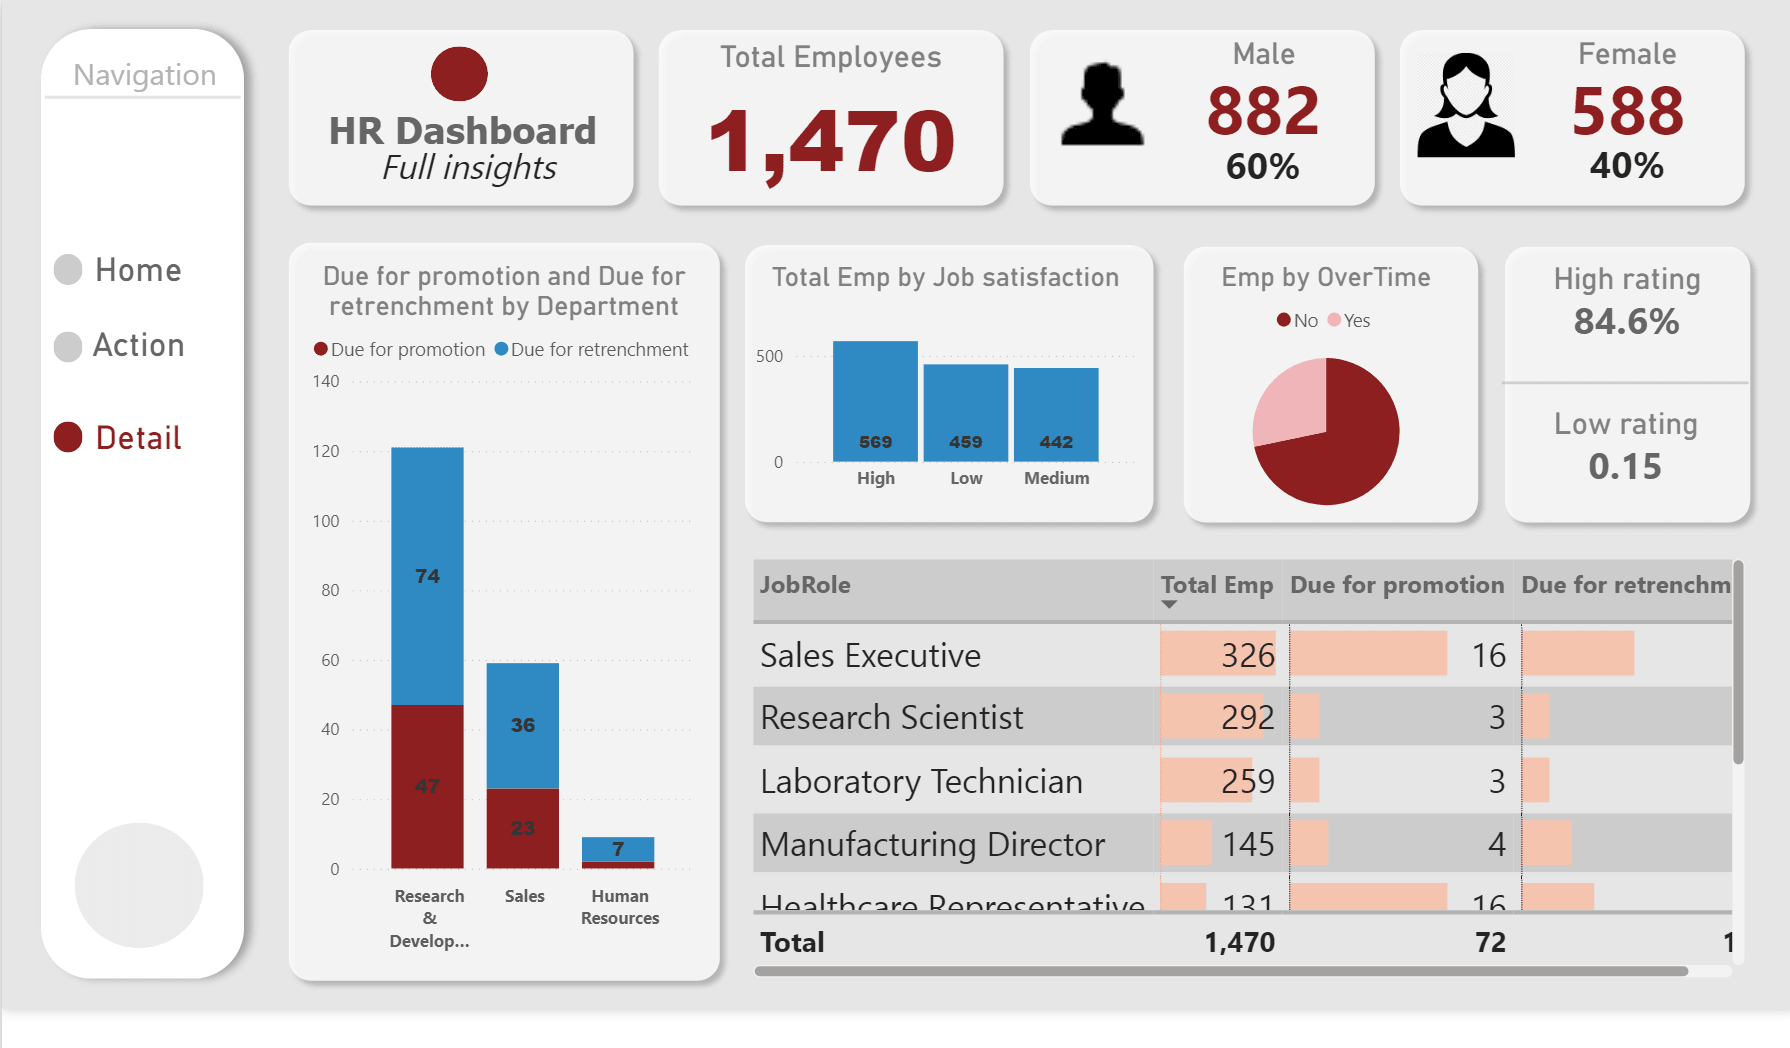

The dashboard page shown, as its layout file describes it:
{"tool":"powerbi","page":{"name":"Details","canvas":[1280,720],"ordinal":1},"visuals":[{"type":"shape","box":[16.5,9.6,166.5,699.2],"z":0},{"type":"shape","box":[195.4,12.4,264.3,143.1],"z":1000},{"type":"shape","box":[459.7,12.4,264.3,143.1],"z":2000},{"type":"shape","box":[724,12.4,264.3,143.1],"z":3000},{"type":"shape","box":[988.2,12.4,264.3,143.1],"z":4000},{"type":"shape","box":[195.2,164.4,325.9,544.6],"z":5000},{"type":"shape","box":[521.1,165.9,309.7,215.8],"z":6000},{"type":"shape","box":[833.6,166.7,228.3,215],"z":7000},{"type":"shape","box":[1063.1,166.7,193.3,215],"z":8000},{"type":"textbox","box":[209.7,71.2,238.7,51.4],"z":9000},{"type":"textbox","box":[36.9,33,130.5,51.4],"z":10000},{"type":"textbox","box":[209.7,97.6,251.9,55.4],"z":11000},{"type":"shape","box":[305.9,33,40.9,39.6],"z":12000},{"type":"card","title":"Total Employees","fields":{"Values":["All Measures.Total Emp"]},"box":[468,27.5,246.4,112.9],"z":13000},{"type":"card","title":"Male","fields":{"Values":["All Measures.Male"]},"box":[814.8,26.2,170.7,75.7],"z":14000},{"type":"card","fields":{"Values":["All Measures.Male %"]},"box":[834.1,90.8,132.1,55.1],"z":15000},{"type":"card","title":"Female","fields":{"Values":["All Measures.Female"]},"box":[1068.7,26.2,183.1,75.7],"z":16000},{"type":"card","fields":{"Values":["All Measures.Female %"]},"box":[1083.9,90.8,152.8,53.7],"z":17000},{"type":"image","box":[736.3,26.2,95,90.8],"z":18000},{"type":"image","box":[1004.7,33,79.8,84],"z":19000},{"type":"columnChart","fields":{"Category":["HR Analytics Data.Department"],"Y":["All Measures.Due for promotion","All Measures.Due for retirment"]},"box":[216.3,185.9,284.8,501.1],"z":20000},{"type":"tableEx","fields":{"Values":["HR Analytics Data.JobRole","All Measures.Total Emp","All Measures.Due for promotion","All Measures.Due for retirment"]},"box":[529.5,393.8,718.8,308.1],"z":21000},{"type":"columnChart","fields":{"Category":["HR Analytics Data.Job satisfaction"],"Y":["All Measures.Total Emp"]},"box":[532.8,186.4,281.8,173.2],"z":22000},{"type":"pieChart","title":"Emp by OverTime","fields":{"Category":["HR Analytics Data.OverTime"],"Y":["All Measures.Total Emp"]},"box":[820.3,186,248.9,192.1],"z":23000},{"type":"card","title":"High rating","fields":{"Values":["All Measures.% High emp rating"]},"box":[1066.7,186,186,61.6],"z":24000},{"type":"card","title":"Low rating","fields":{"Values":["All Measures.% Low emp rating"]},"box":[1065.5,289.9,186,61.6],"z":25000},{"type":"shape","box":[1070.1,265.7,176.1,14.7],"z":26000},{"type":"shape","box":[36.9,300.7,21.1,22.4],"z":27000},{"type":"actionButton","title":"Detail","box":[27.7,298,139.8,39.6],"z":28000},{"type":"shape","box":[36.9,236,21.1,22.4],"z":29000},{"type":"actionButton","title":"Action","box":[27.7,232.1,139.8,58],"z":30000},{"type":"shape","box":[36.9,180.7,21.1,22.4],"z":31000},{"type":"actionButton","title":"Home","box":[27.7,178,139.8,54.1],"z":32000},{"type":"shape","box":[51.4,586.8,92.3,89.7],"z":33000},{"type":"shape","box":[30.2,61.6,140.1,15.7],"z":34000}]}

Visuals, with their boxes on the page's 1280x720 design canvas (x1, y1, x2, y2). These are canvas units, not pixel positions in the 1790x1048 screenshot, which may show the page scaled, cropped or inside an application window:
shape: 16, 10, 183, 709
shape: 195, 12, 460, 156
shape: 460, 12, 724, 156
shape: 724, 12, 988, 156
shape: 988, 12, 1252, 156
shape: 195, 164, 521, 709
shape: 521, 166, 831, 382
shape: 834, 167, 1062, 382
shape: 1063, 167, 1256, 382
textbox: 210, 71, 448, 123
textbox: 37, 33, 167, 84
textbox: 210, 98, 462, 153
shape: 306, 33, 347, 73
"Total Employees" card: 468, 28, 714, 140
"Male" card: 815, 26, 986, 102
card - All Measures.Male %: 834, 91, 966, 146
"Female" card: 1069, 26, 1252, 102
card - All Measures.Female %: 1084, 91, 1237, 144
image: 736, 26, 831, 117
image: 1005, 33, 1084, 117
columnChart - HR Analytics Data.Department x All Measures.Due for promotion: 216, 186, 501, 687
tableEx - HR Analytics Data.JobRole x All Measures.Total Emp: 530, 394, 1248, 702
columnChart - HR Analytics Data.Job satisfaction x All Measures.Total Emp: 533, 186, 815, 360
"Emp by OverTime" pieChart: 820, 186, 1069, 378
"High rating" card: 1067, 186, 1253, 248
"Low rating" card: 1066, 290, 1252, 352
shape: 1070, 266, 1246, 280
shape: 37, 301, 58, 323
"Detail" actionButton: 28, 298, 168, 338
shape: 37, 236, 58, 258
"Action" actionButton: 28, 232, 168, 290
shape: 37, 181, 58, 203
"Home" actionButton: 28, 178, 168, 232
shape: 51, 587, 144, 676
shape: 30, 62, 170, 77
